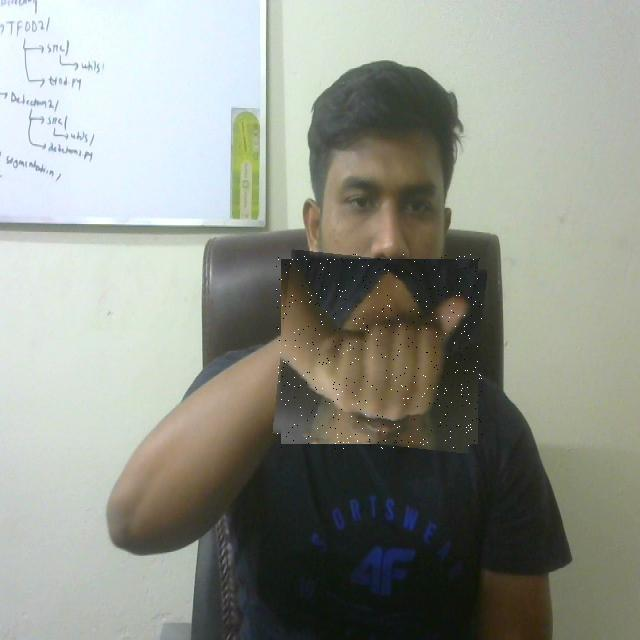Yes: (276, 254, 482, 449)
